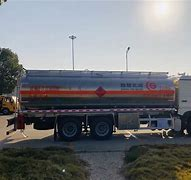oil truck: (12, 56, 190, 145)
